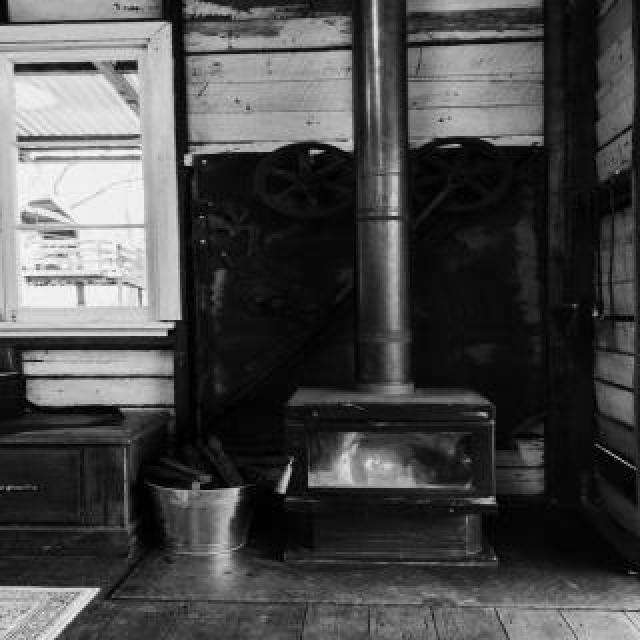Fire: (302, 422, 450, 492)
